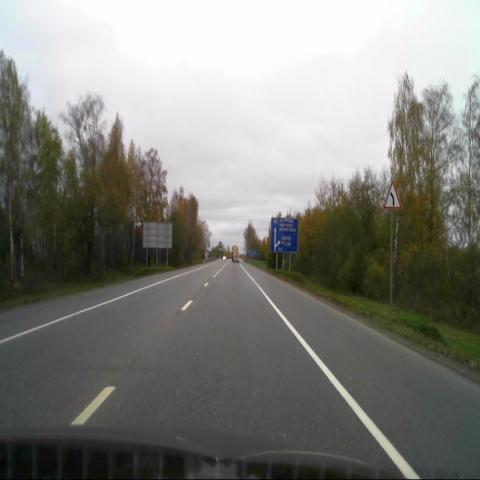1_11_1: (384, 181, 401, 209)
